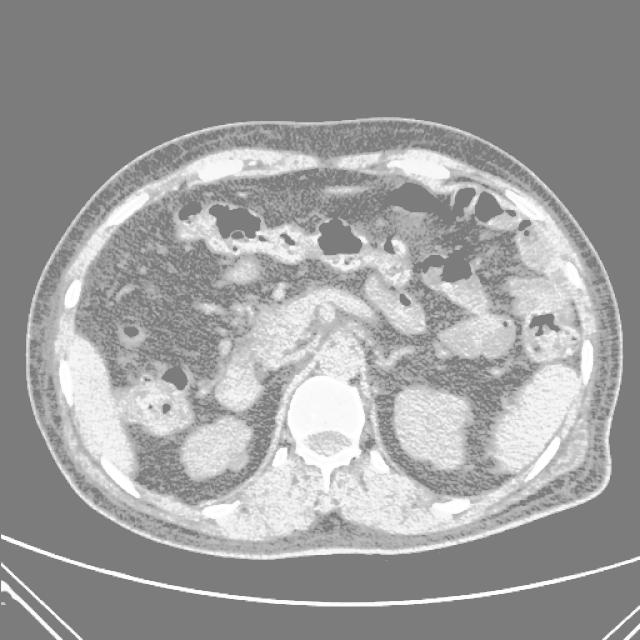cysts: (173, 207, 576, 456)
